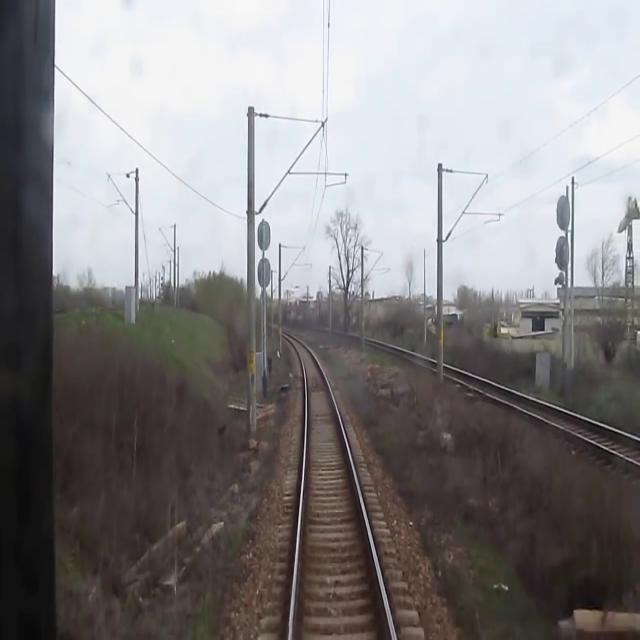rail-track: (293, 341, 391, 639), (443, 367, 640, 460), (414, 357, 436, 366)
